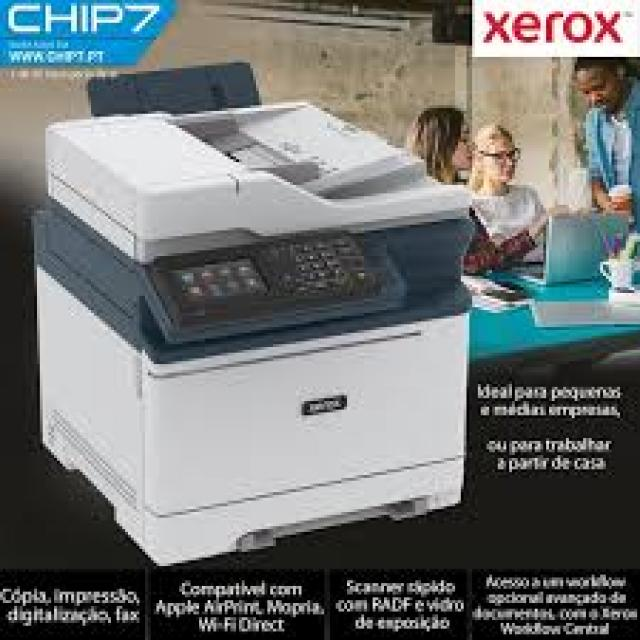printer: (20, 53, 496, 567)
